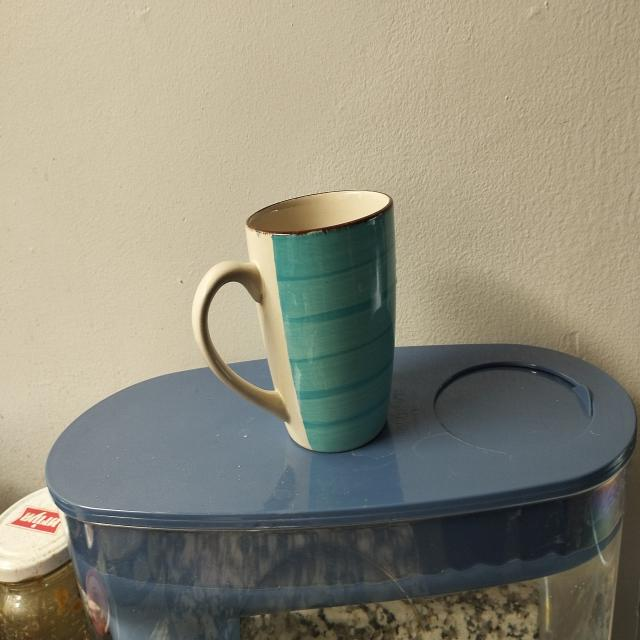Cup: (182, 159, 426, 480)
